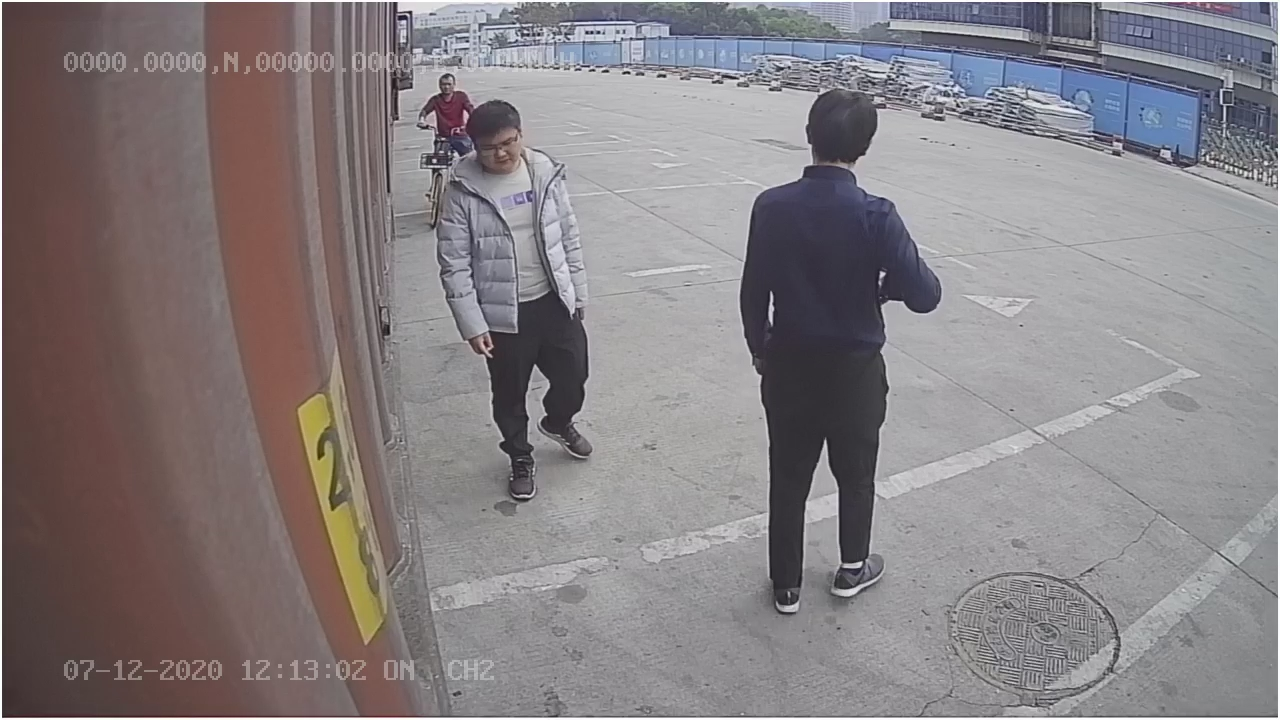person: (736, 79, 944, 612), (427, 96, 622, 521)
